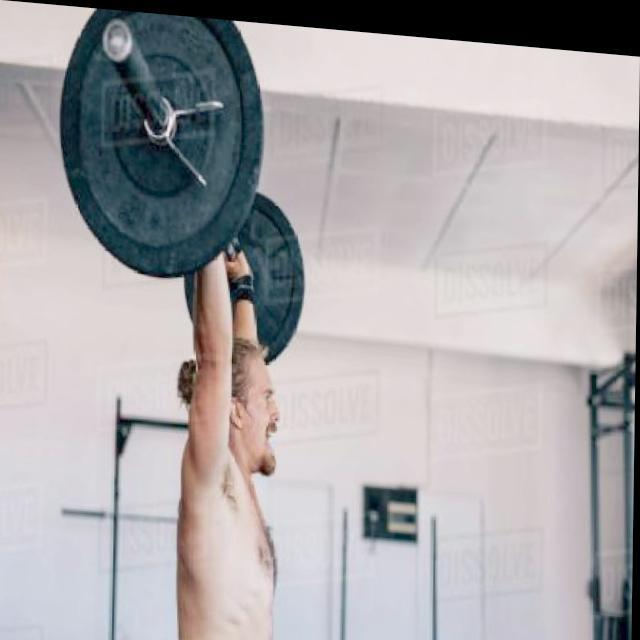barbell: (55, 9, 272, 288)
